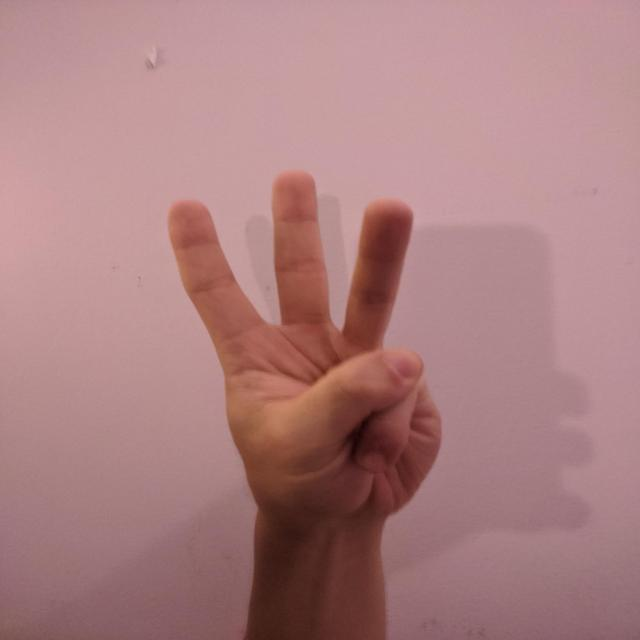W: (160, 164, 449, 524)
